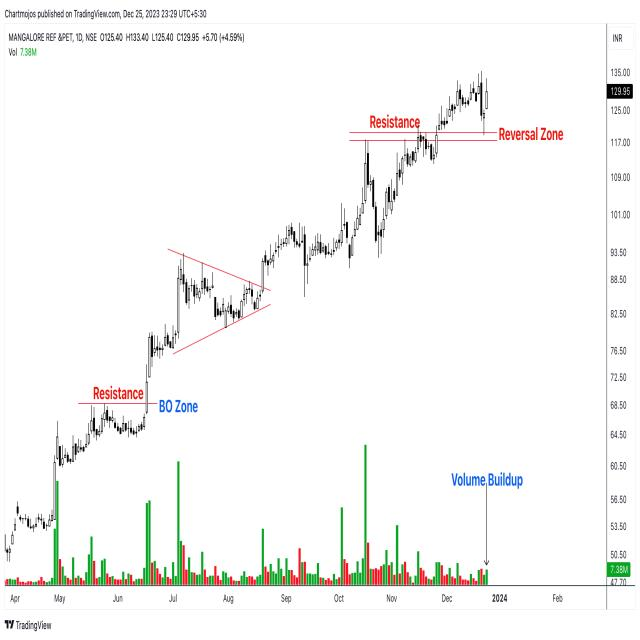Triangle: (132, 235, 287, 374)
